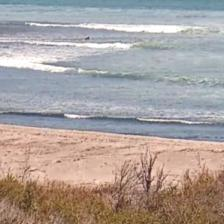surfer: (84, 36, 90, 41)
